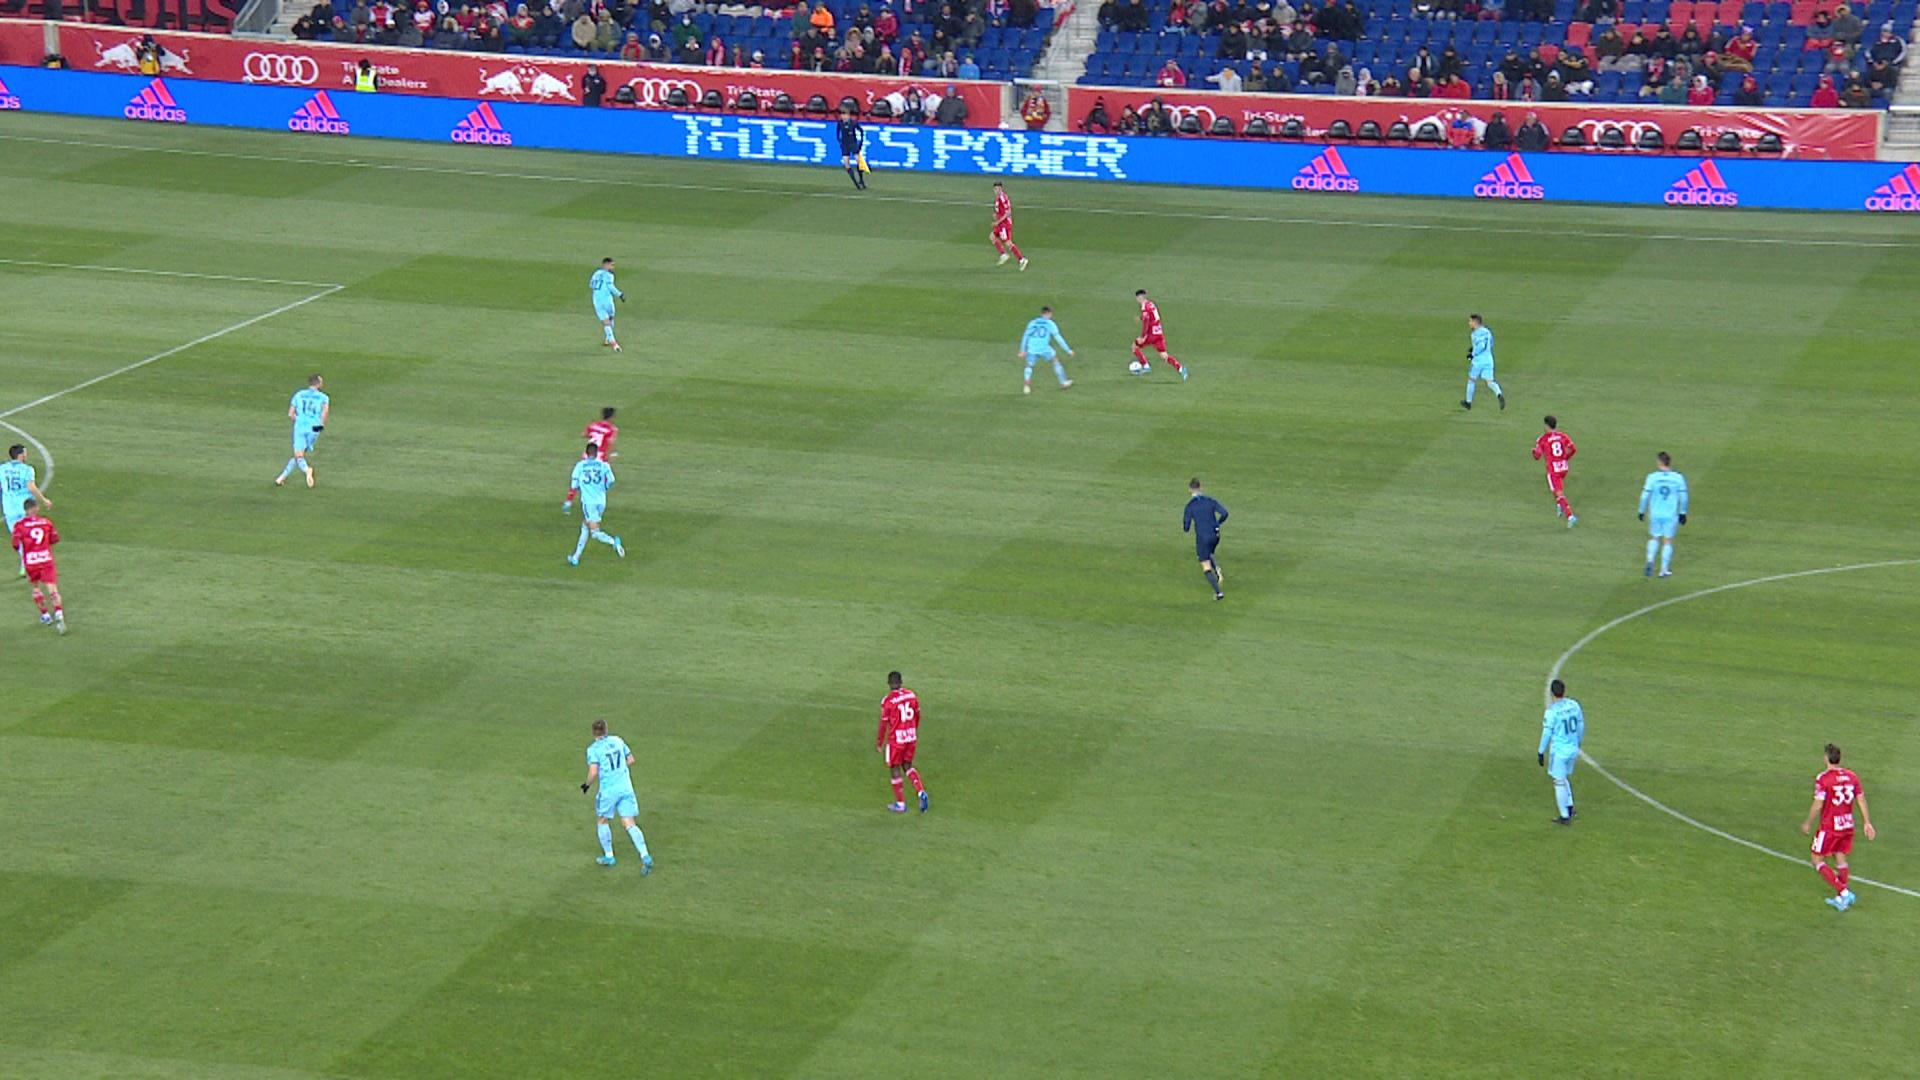football: (1127, 360, 1142, 369)
